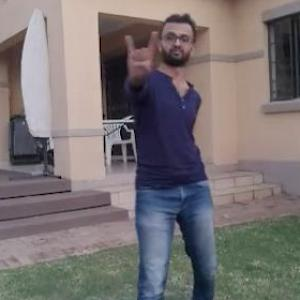takeoff-hand: (120, 22, 159, 84)
